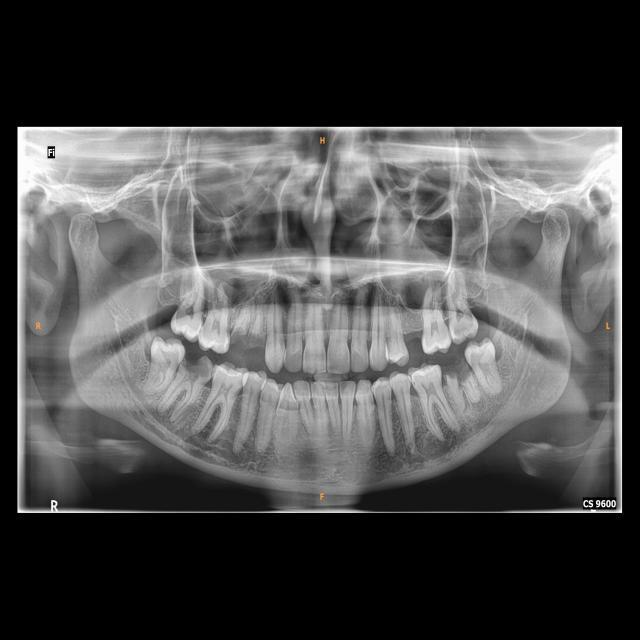dentin-curugu: (180, 350, 213, 384)
kirik: (228, 320, 268, 350), (443, 359, 476, 392)
